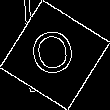O_S: (29, 25, 81, 85)
